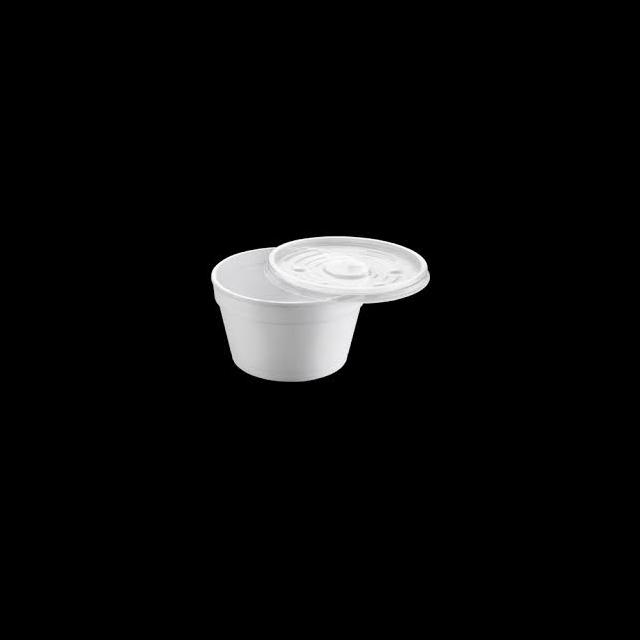paper: (210, 246, 362, 382)
plastic: (262, 235, 429, 302)
